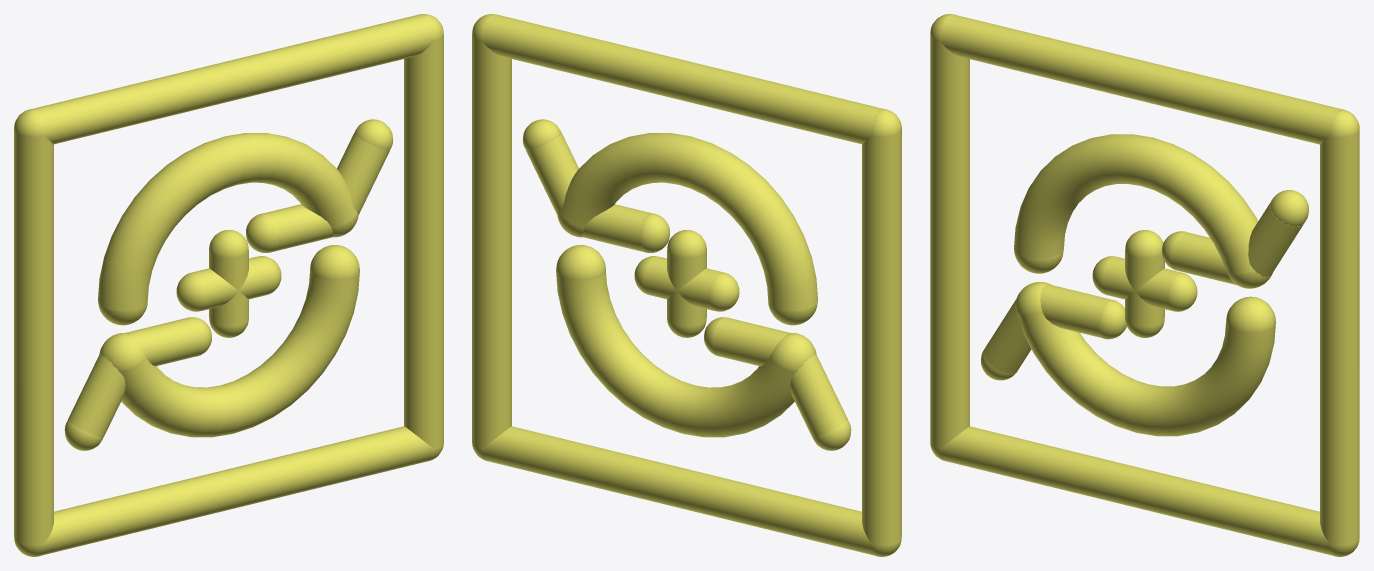
File: blurrStyleRespawnModel.fbx
3 views of the same model, side by side, from view 1: azimuth 30°, elevation 25°; view 2: azimuth 150°, elevation 25°; view 3: azimuth 330°, elevation 25° (orthographic).
Visible parts, largest first — view 1: pCylinder36; view 2: pCylinder36; view 3: pCylinder36.
Boxes of the visible parts, x1=… form: pCylinder36: x1=14, y1=14, x2=443, y2=556; pCylinder36: x1=472, y1=14, x2=901, y2=556; pCylinder36: x1=930, y1=14, x2=1359, y2=556.
Size of the model in its own units: 9.8 by 9.8 by 1.
